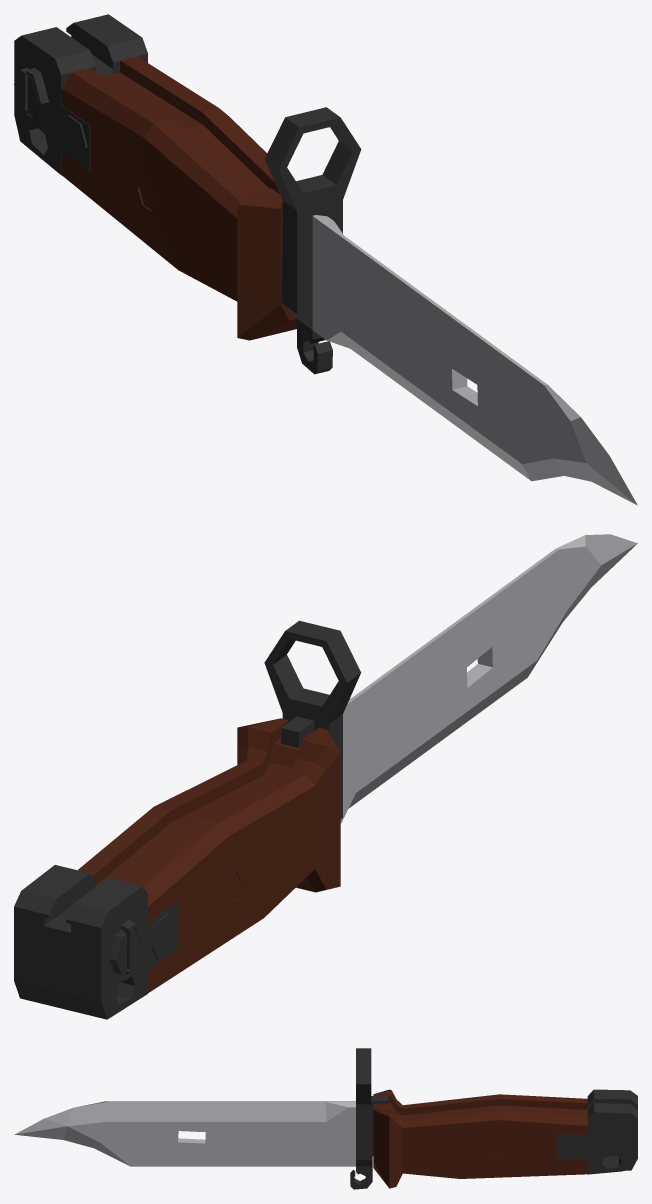
File: Blade.fbx
The picture shows the model from 3 angles, top to bottom: view 1: azimuth 30°, elevation 25°; view 2: azimuth 150°, elevation 25°; view 3: azimuth 270°, elevation 25°; orthographic projection. The views are drawn at different scales.
Parts seen in each view (by area): view 1: bayonet; view 2: bayonet; view 3: bayonet.
Part boxes in pixels (x1=…): bayonet: x1=14, y1=14, x2=637, y2=505; bayonet: x1=14, y1=534, x2=637, y2=1019; bayonet: x1=14, y1=1048, x2=637, y2=1189.
Size of the model in its own units: 14.75 by 143 by 33.89.
